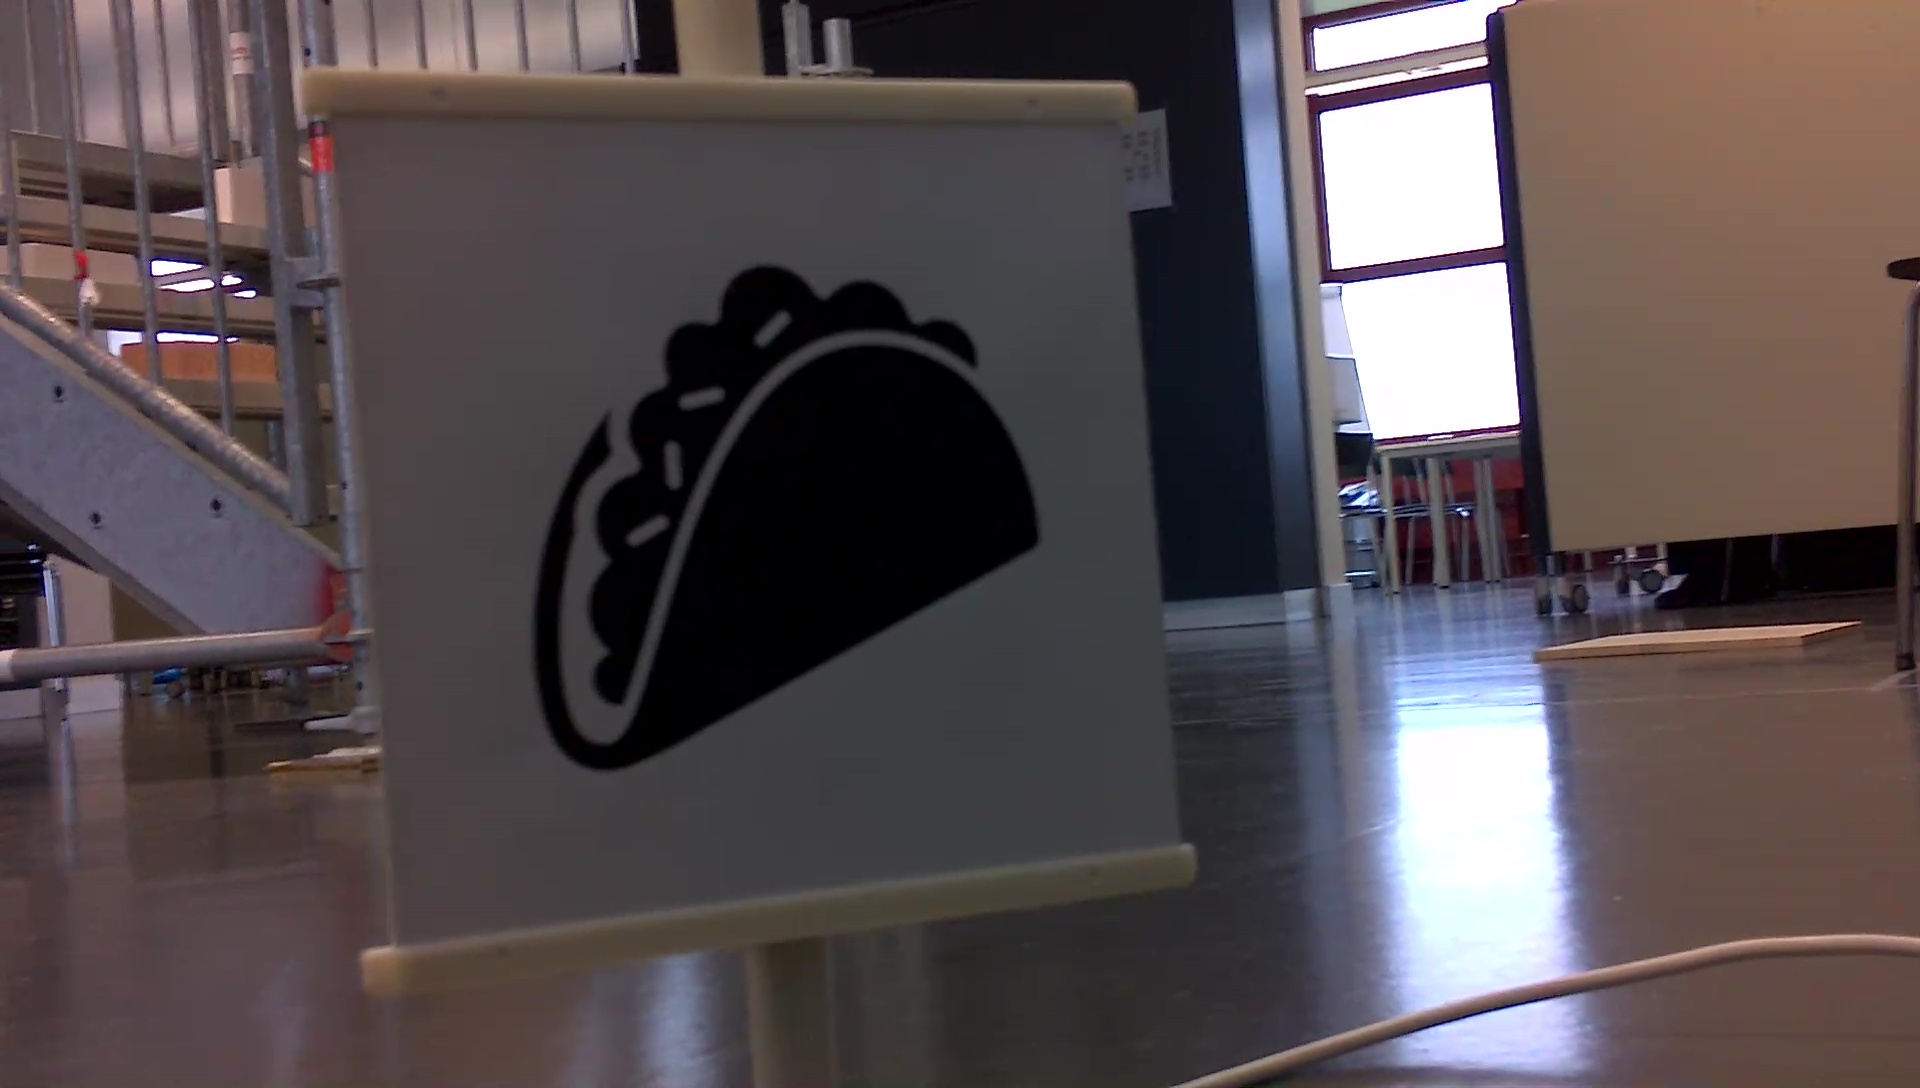taco: (520, 249, 1050, 786)
